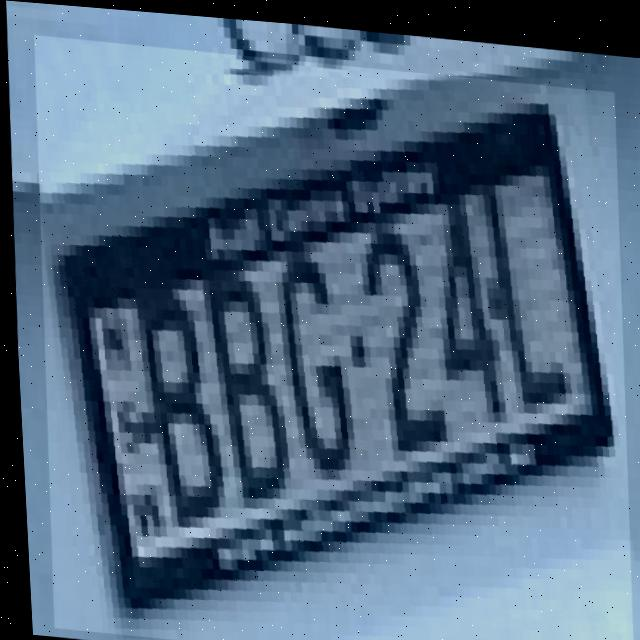LicensePlate: (24, 33, 638, 640)
